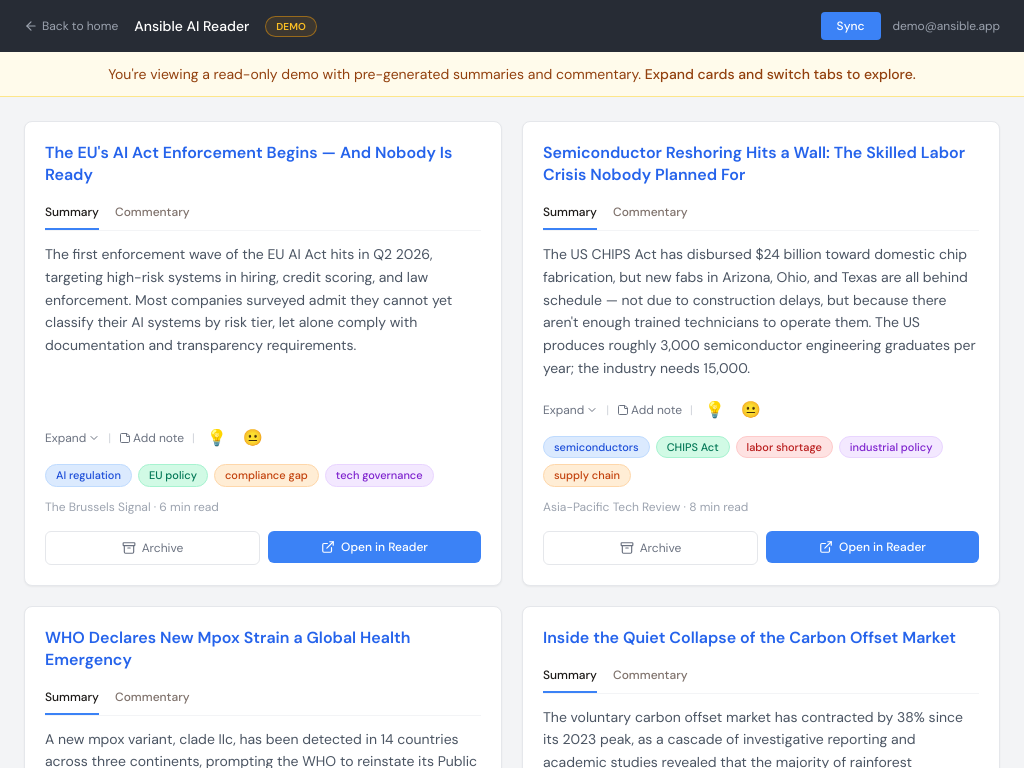
it: DemoPage › Article interactions › Sync restores archived articles, shows the popup, and tracks sync
Click the button "Archive" below "The Brussels Signal". click: {"x": 152, "y": 548}
box: [45,530,260,564]
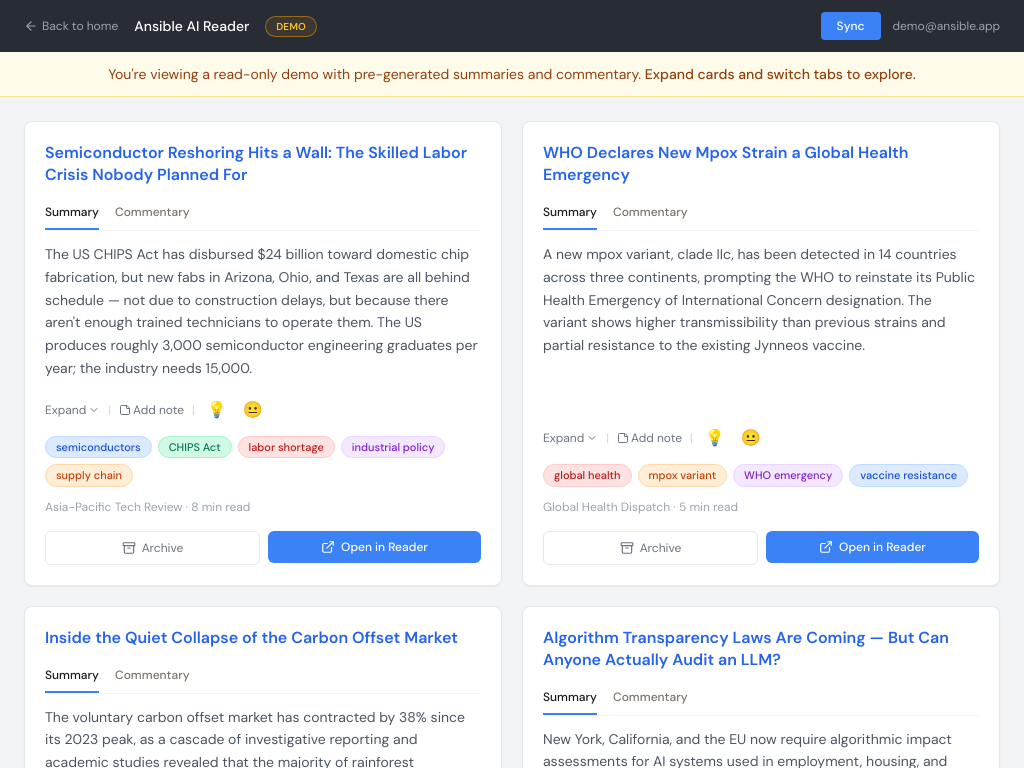
Now the number of tabs "Summary" is 4, box [45,198,99,230]; [543,198,597,230]; [45,660,99,692]; [543,682,597,714]
Click the button "Sync". click: {"x": 851, "y": 26}
box: [821,12,880,40]
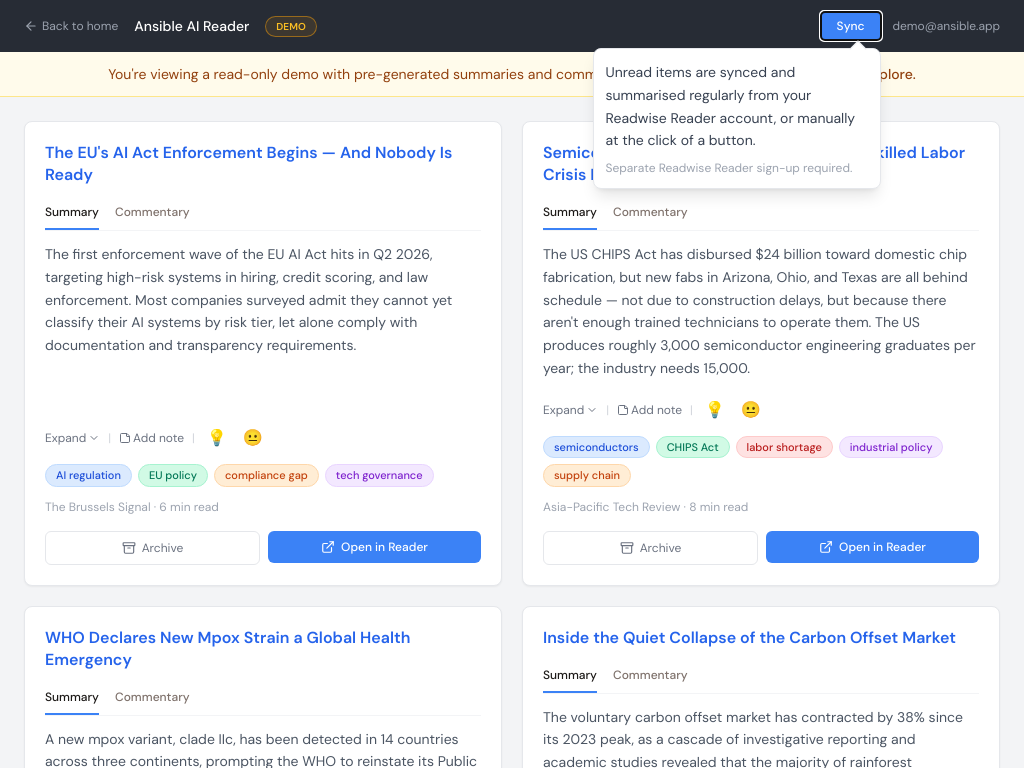
Now the number of tabs "Summary" is 5
Now the text "Unread items are synced" is shown, box [606,63,855,149]
Click the element with class "inset-0". click: {"x": 512, "y": 384}
box: [0,0,1023,767]
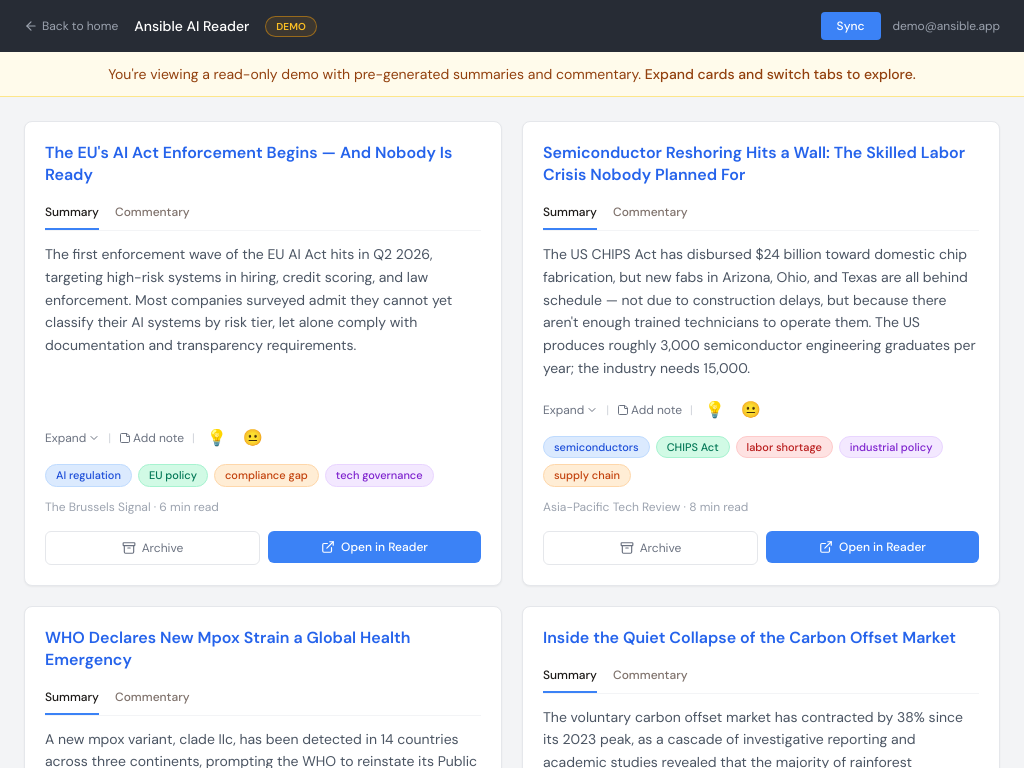
Now the text "Unread items are synced" is gone
